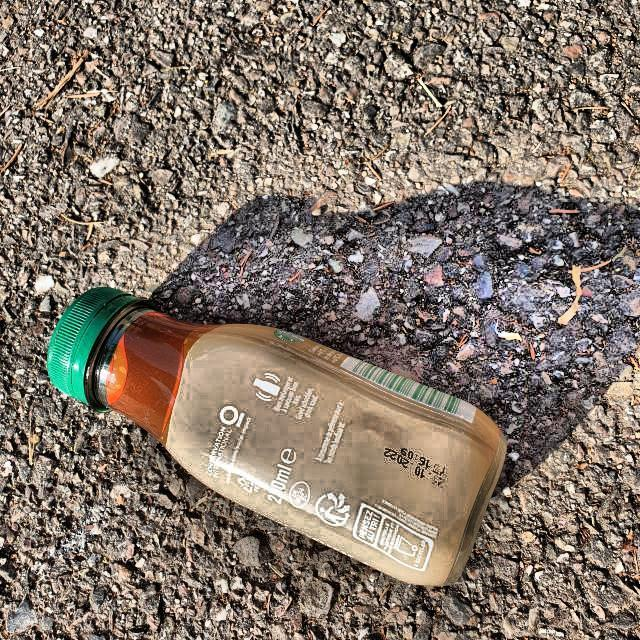glass: (45, 288, 507, 590)
